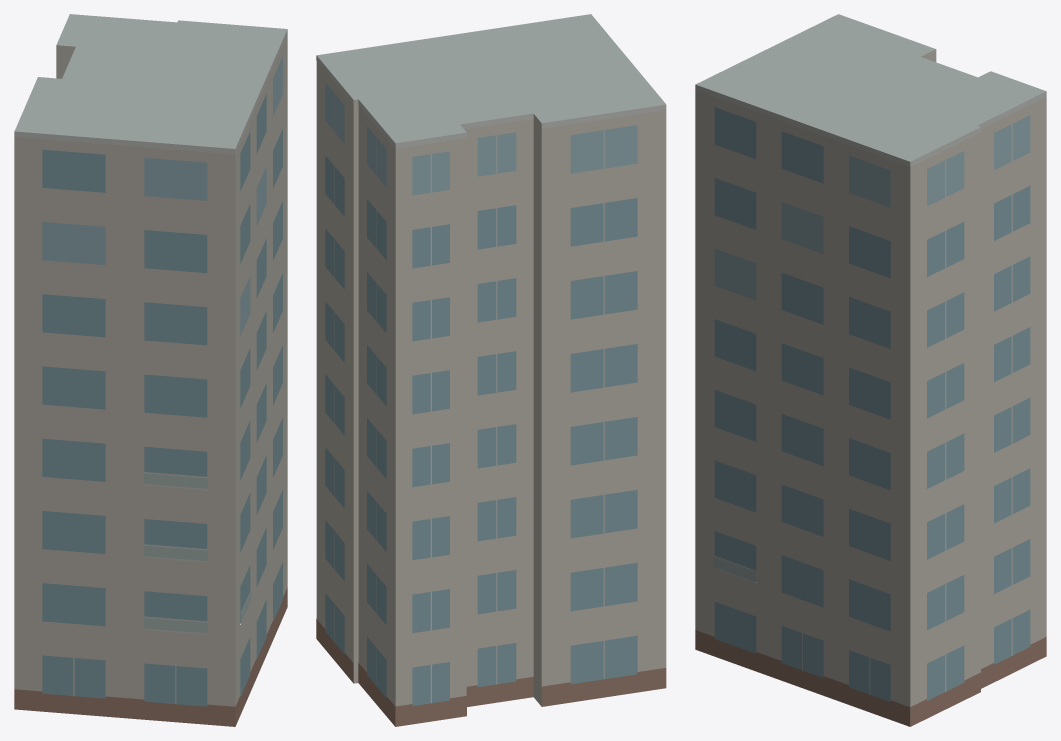
The model's file is survey-upis-32563634.glb.
3 views of the same model, side by side, from view 1: azimuth 30°, elevation 25°; view 2: azimuth 150°, elevation 25°; view 3: azimuth 270°, elevation 25° (orthographic). The views are drawn at different scales.
Visible parts, largest first — view 1: survey-upis-32563634.tmp; view 2: survey-upis-32563634.tmp; view 3: survey-upis-32563634.tmp.
Boxes of the visible parts, left/top/right/bottom form: survey-upis-32563634.tmp: left=14, top=14, right=287, bottom=726; survey-upis-32563634.tmp: left=316, top=14, right=666, bottom=726; survey-upis-32563634.tmp: left=695, top=14, right=1046, bottom=726.
Size of the model in its own units: 14.37 by 25.6 by 14.43.
